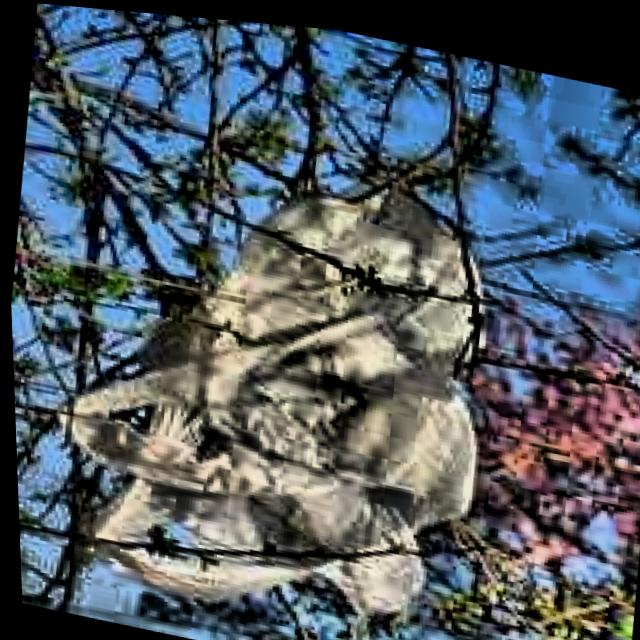Plastic: (26, 124, 517, 640)
